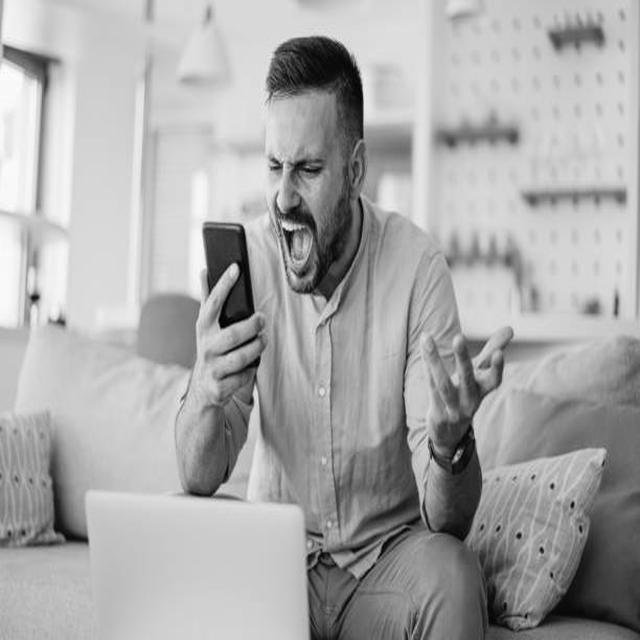Angry: (264, 95, 350, 292)
